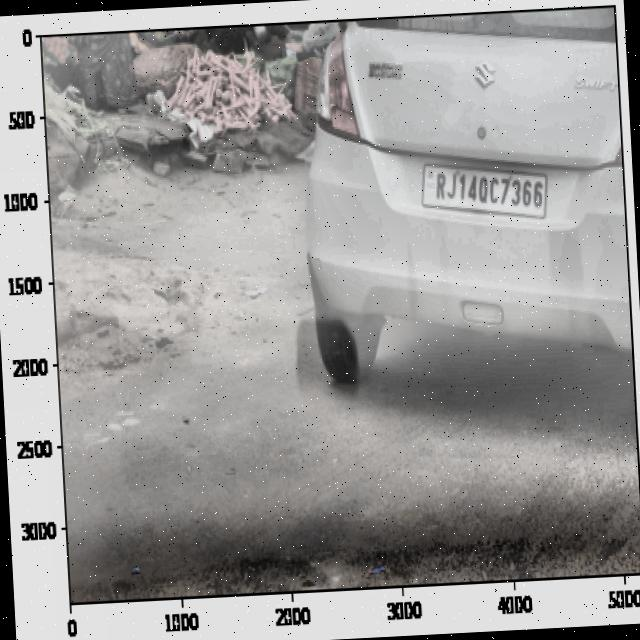license_plate: (431, 160, 550, 220)
